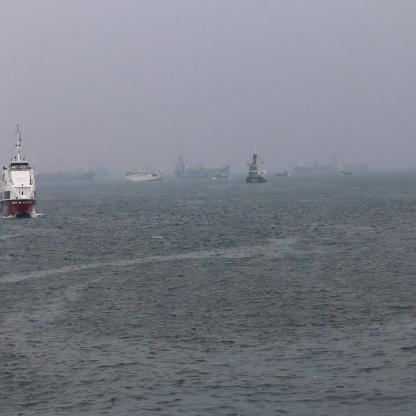Container Ship: (31, 157, 96, 183), (174, 153, 231, 176), (246, 140, 266, 184), (290, 156, 338, 171), (125, 166, 164, 182), (342, 160, 371, 170)
